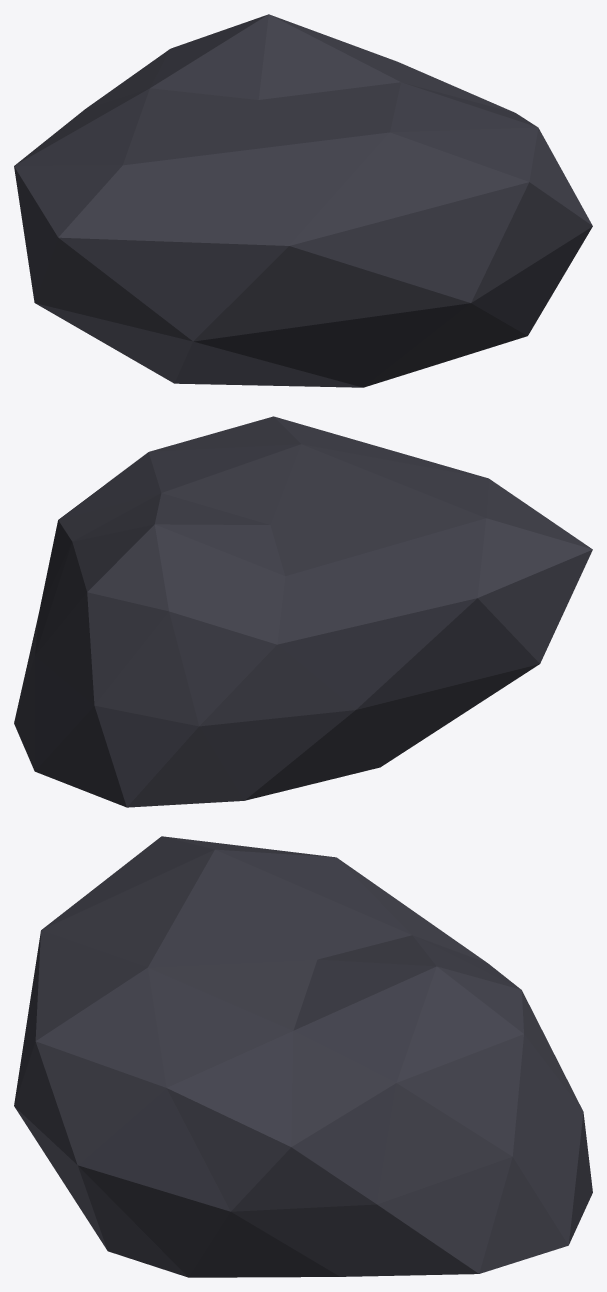
File: Stone_02.fbx
3 renders of one model, top to bottom at view 1: azimuth 30°, elevation 25°; view 2: azimuth 150°, elevation 25°; view 3: azimuth 270°, elevation 25°, orthographic. The views are drawn at different scales.
Parts seen in each view (by area): view 1: Stone_02; view 2: Stone_02; view 3: Stone_02.
Part boxes in pixels (bbox=[...]): Stone_02: bbox=[14, 14, 592, 387]; Stone_02: bbox=[14, 416, 592, 807]; Stone_02: bbox=[14, 836, 592, 1277].
Size of the model in its own units: 16.5 by 7.33 by 15.35.
